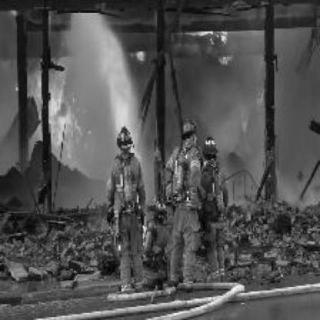Fire: (25, 51, 87, 167)
